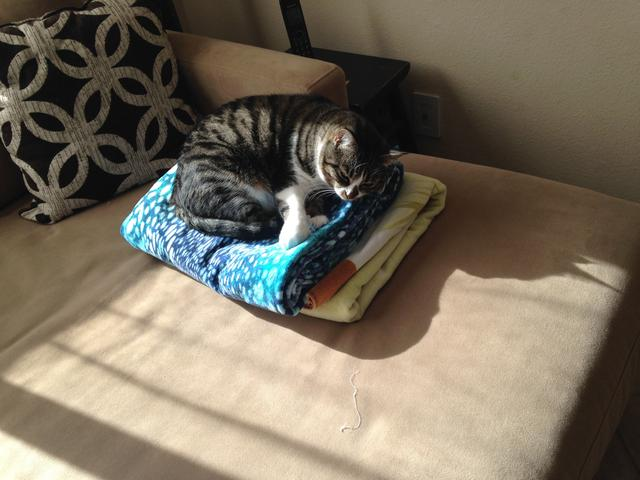playdoh: (173, 93, 407, 251)
